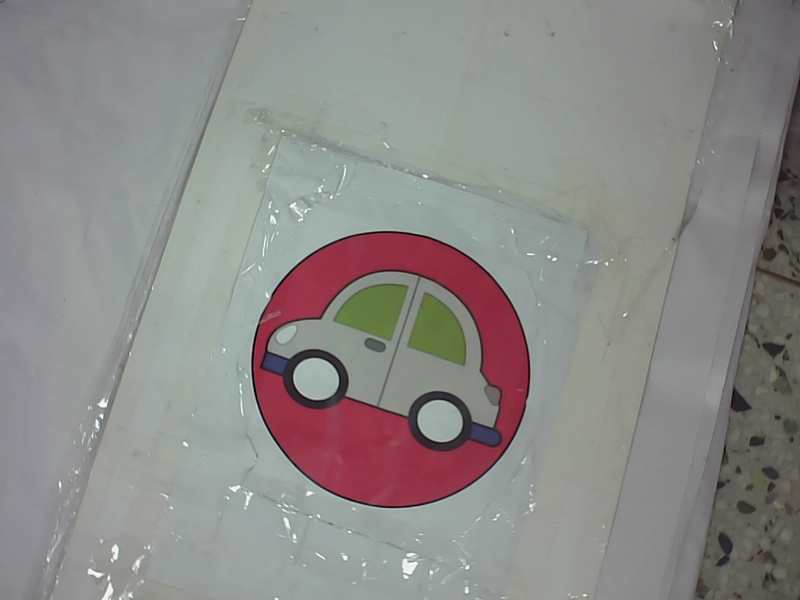areaC: (245, 227, 539, 513)
